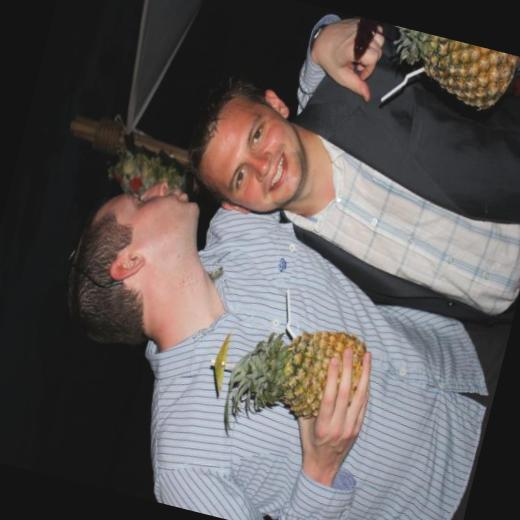Mango: (216, 304, 370, 458), (384, 27, 520, 115)
